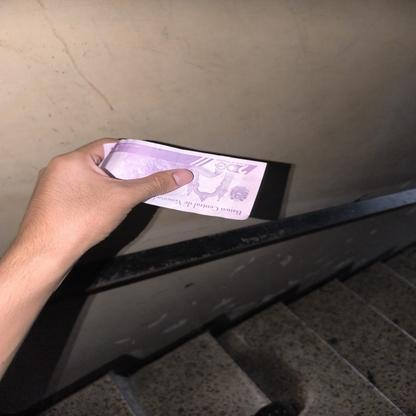one_hundred-back-vef: (96, 138, 268, 221)
